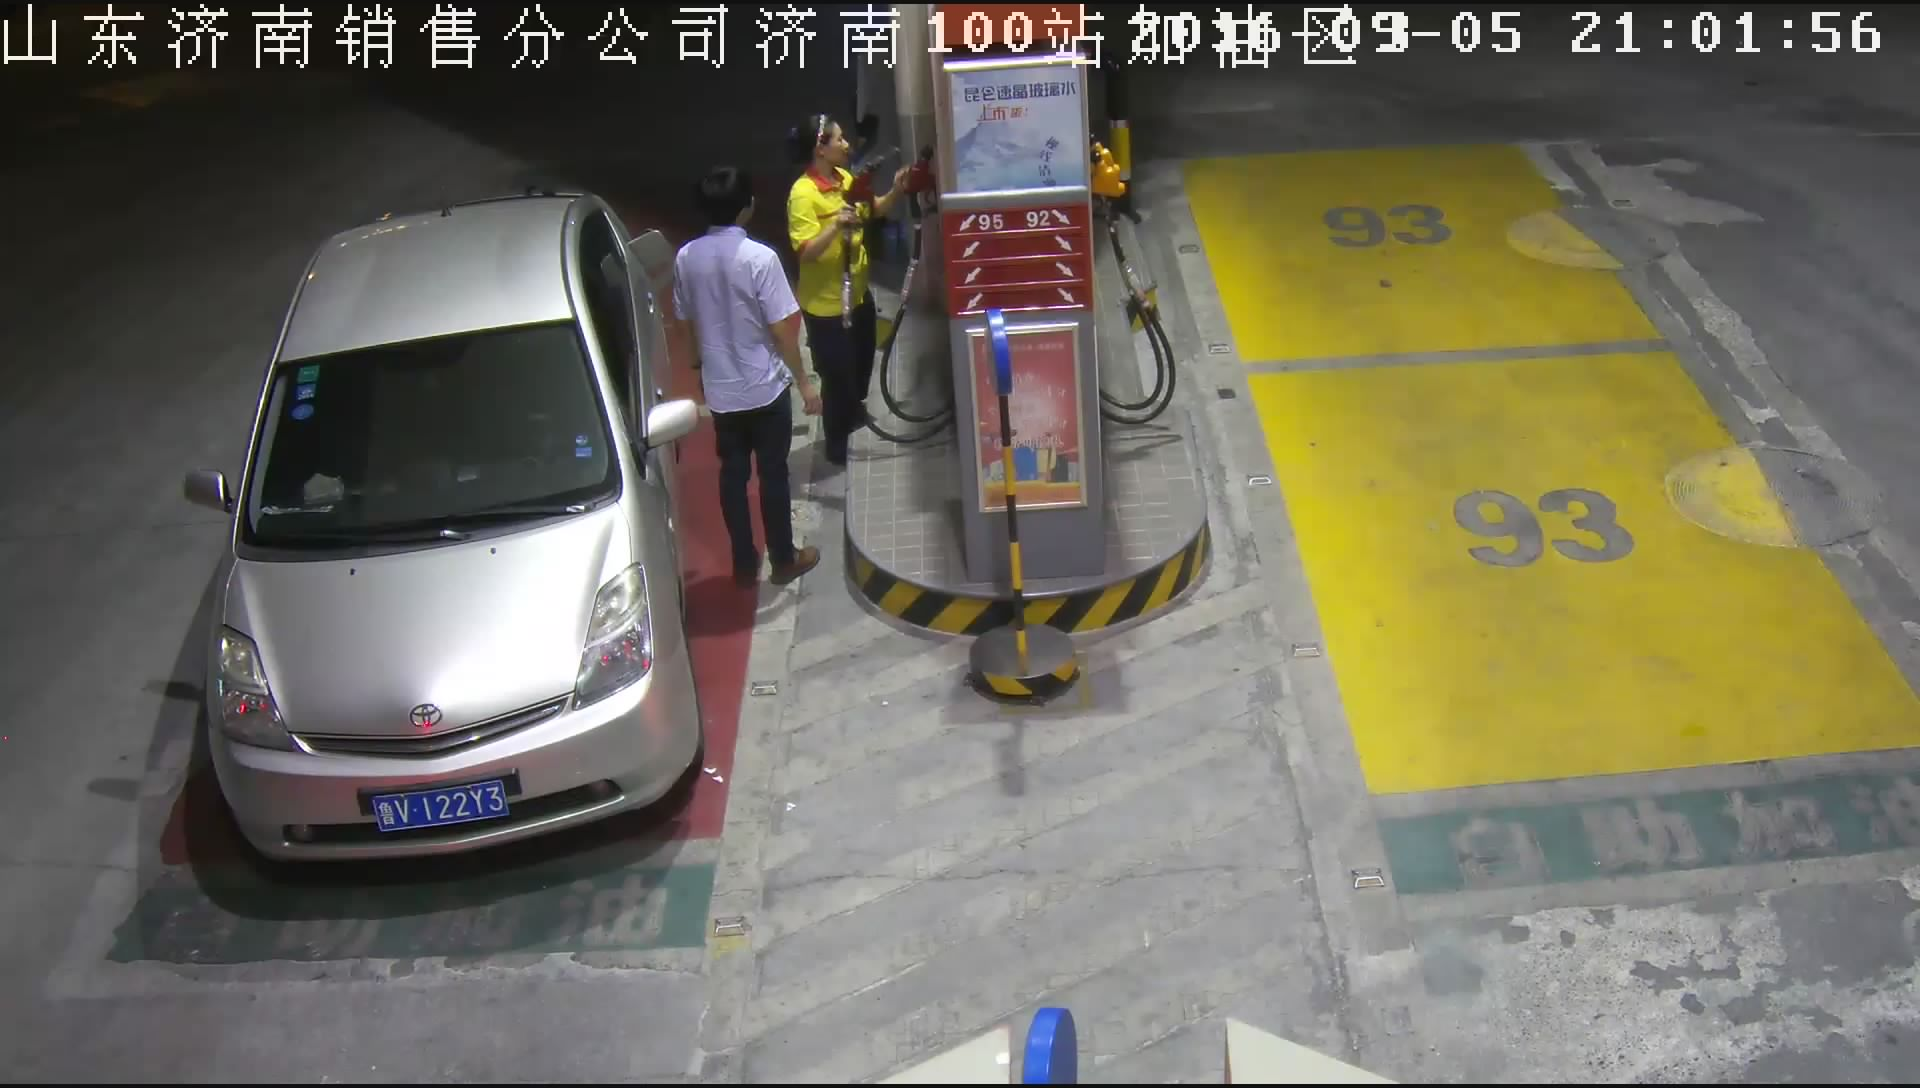blue: (371, 779, 512, 836)
